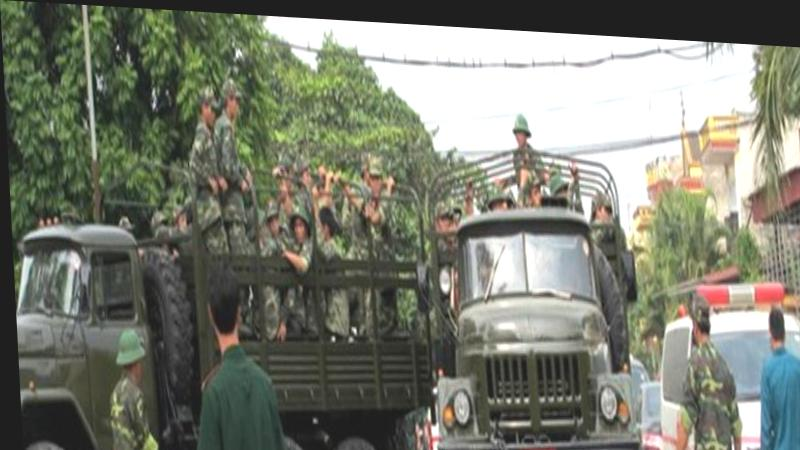License_Plate: (516, 446, 558, 450)
